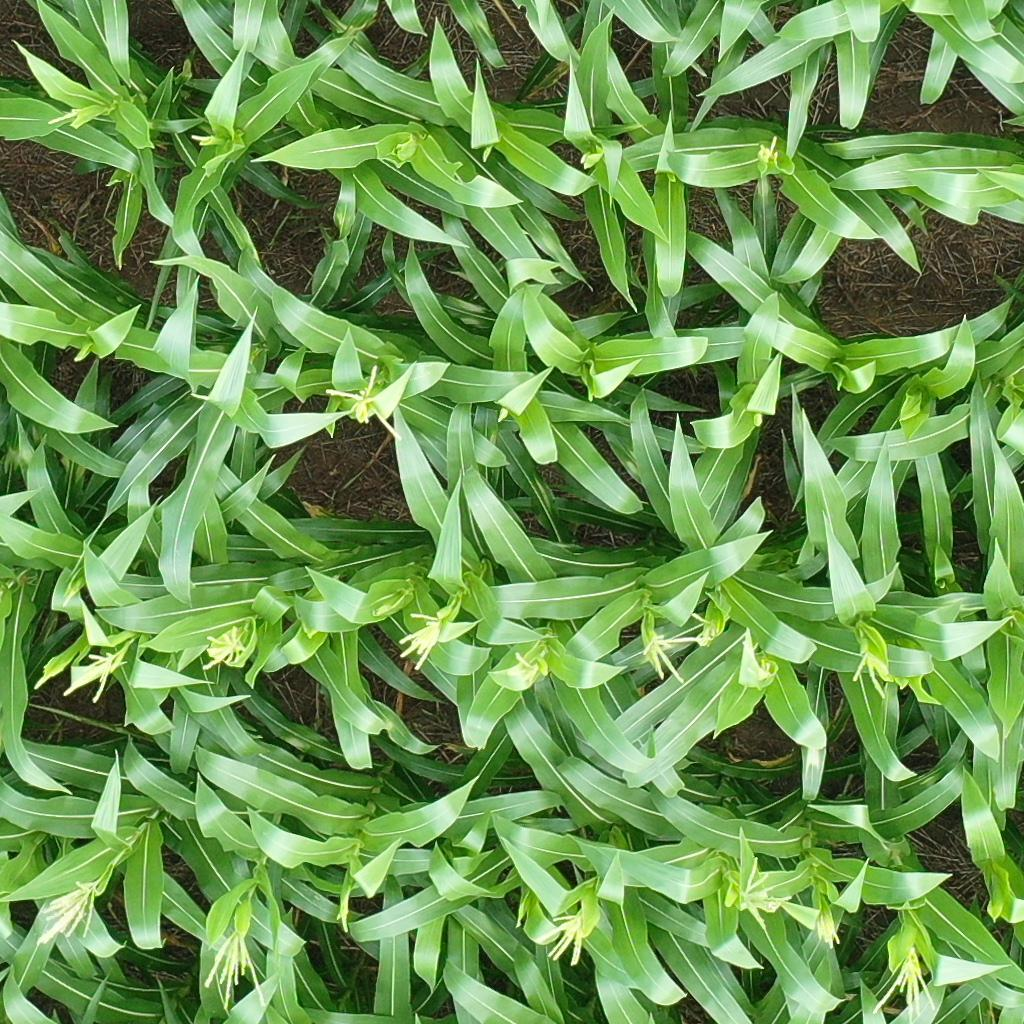Tassel: (323, 362, 403, 440), (635, 609, 719, 683), (200, 929, 270, 1011), (871, 943, 941, 1024), (728, 847, 790, 930), (37, 875, 102, 943), (60, 652, 121, 706), (534, 909, 584, 969), (390, 611, 441, 669), (848, 647, 899, 699), (203, 624, 249, 669), (505, 651, 543, 688), (335, 885, 357, 939), (815, 904, 841, 947), (756, 133, 778, 169), (44, 106, 81, 127), (753, 660, 778, 690), (184, 131, 217, 147)
